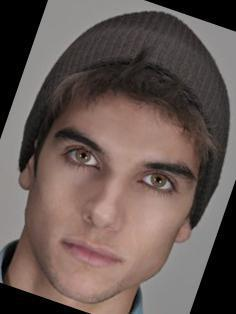Sober: (42, 92, 179, 288)
